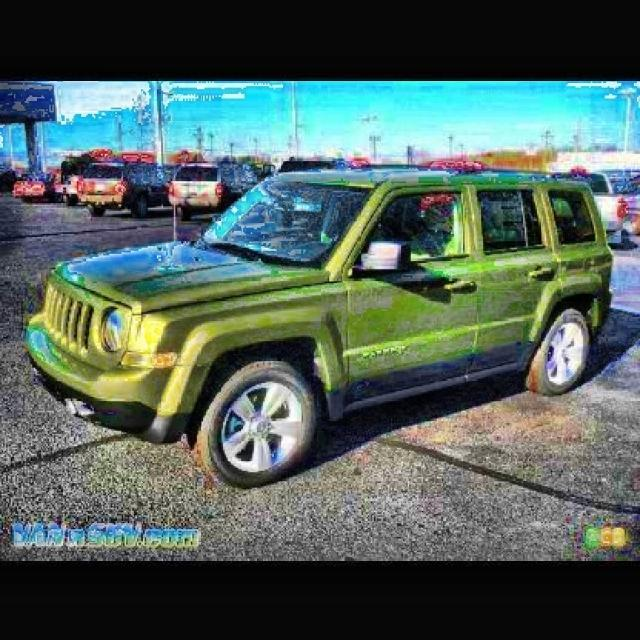green: (35, 111, 640, 443)
